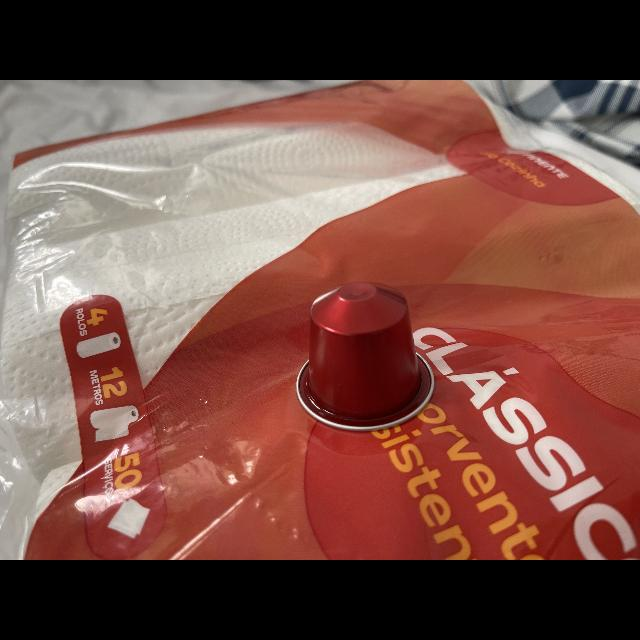intact_capsule: (288, 273, 450, 435)
